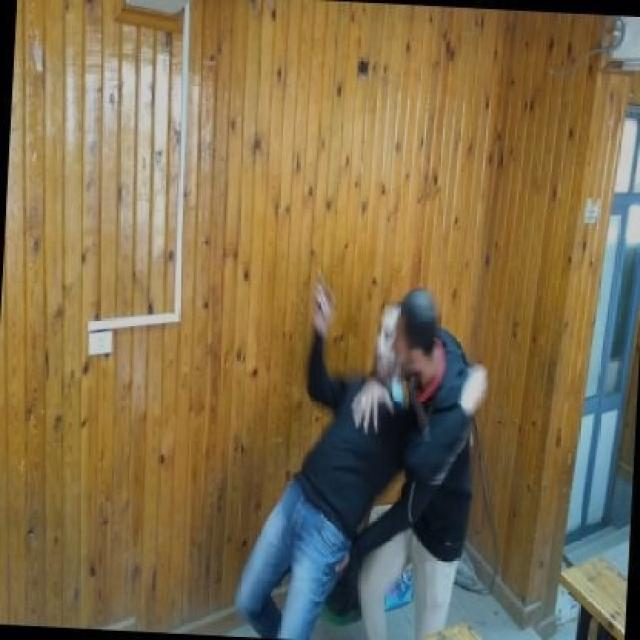fight: (222, 265, 489, 637)
